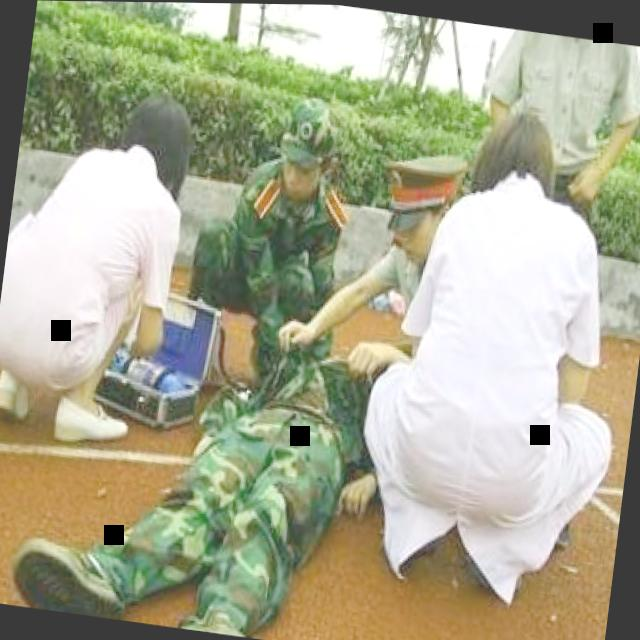Fall-Detected: (0, 251, 418, 640)
